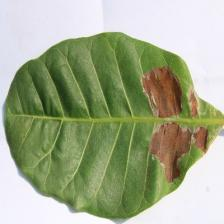leaf miner: (3, 31, 223, 220)
